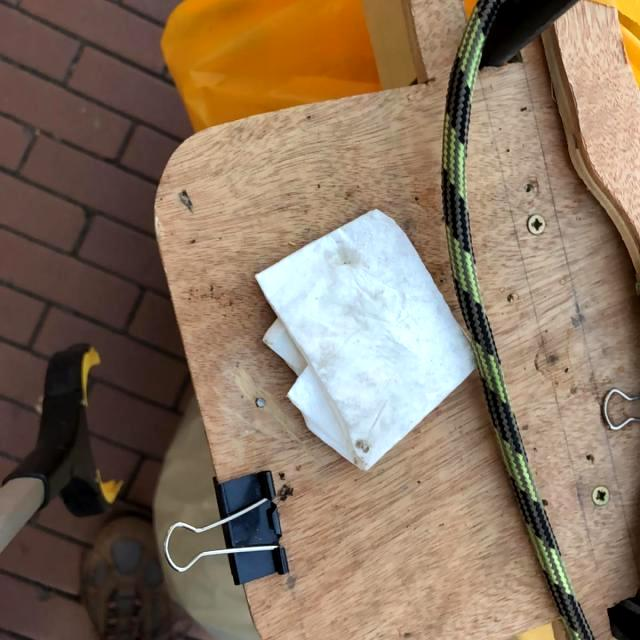Paper: (253, 206, 482, 476)
